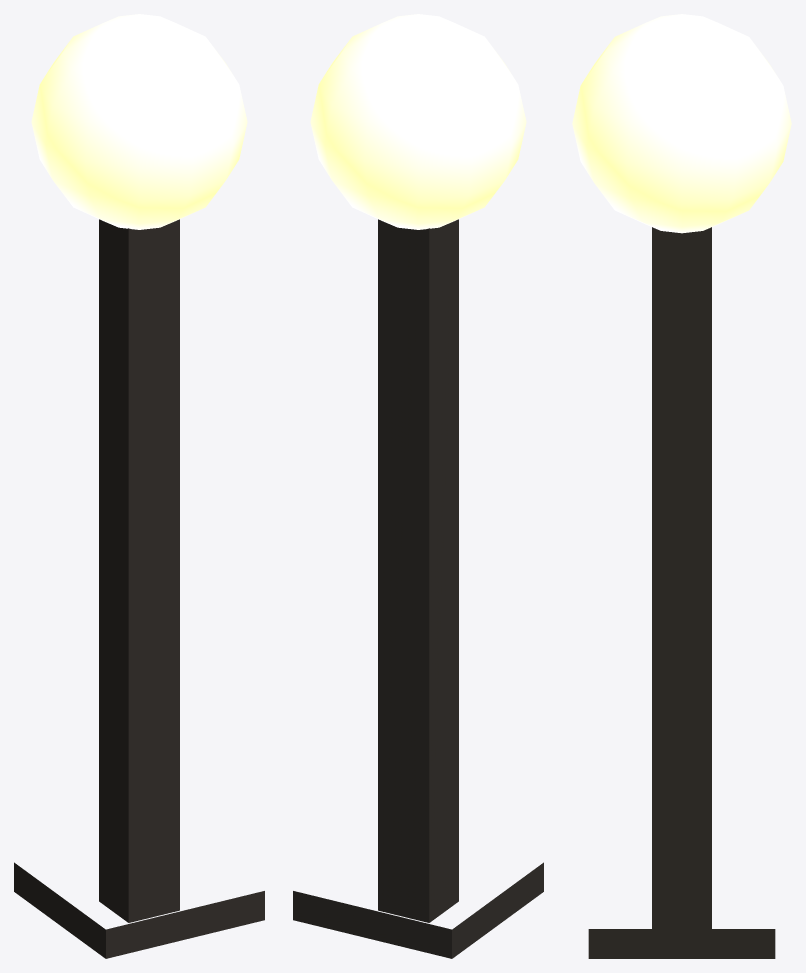
The model's file is model.lamp.glb.
The picture shows the model from 3 angles, left to right: view 1: azimuth 30°, elevation 25°; view 2: azimuth 150°, elevation 25°; view 3: azimuth 270°, elevation 25°; orthographic projection.
Visible parts, largest first — view 1: lamp; view 2: lamp; view 3: lamp.
Boxes of the visible parts, bbox=[...] form: lamp: bbox=[14, 14, 264, 958]; lamp: bbox=[293, 14, 543, 958]; lamp: bbox=[572, 14, 791, 958].
Size of the model in its own units: 0.3999 by 1.8 by 0.3999.
